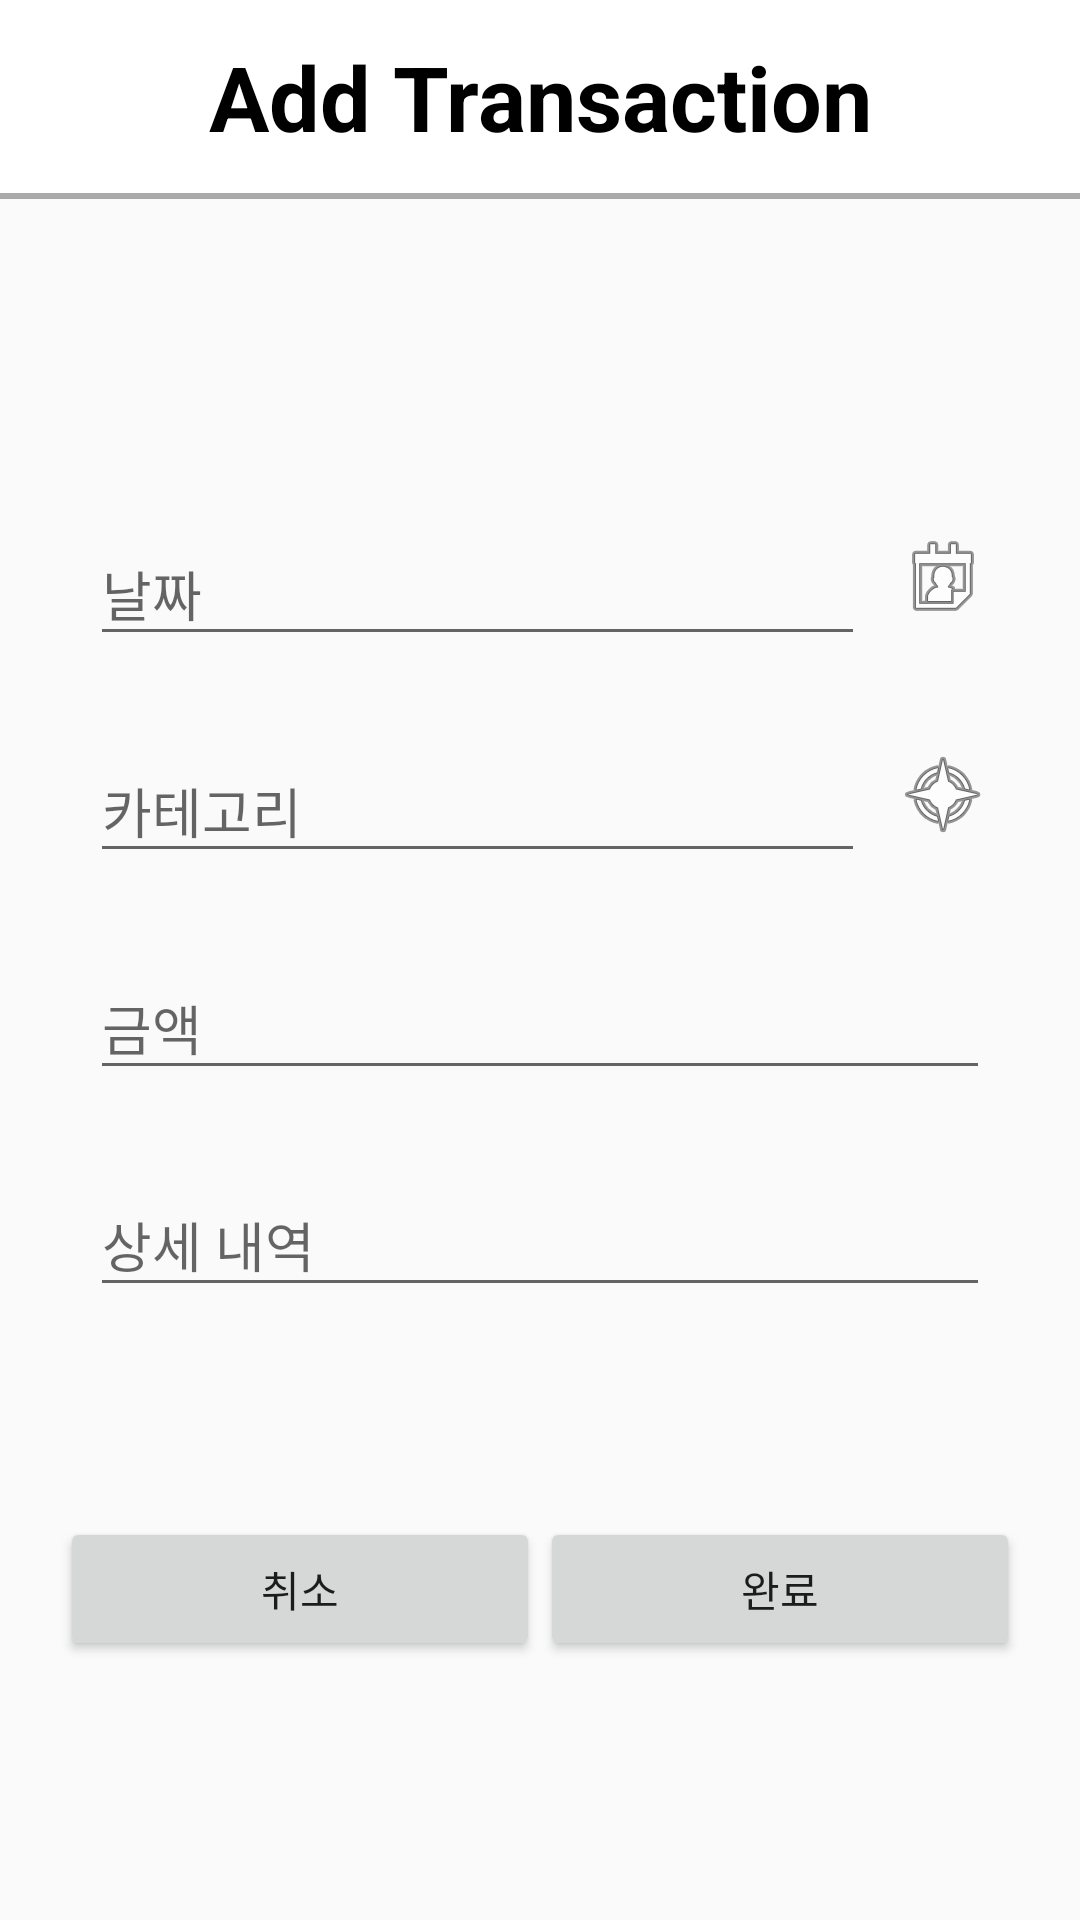

Locate icon controls on the screen. Image size 1080 × 1920, boxes as (x1, y1, x2, y2).
calendar: (912, 541, 974, 611)
compass: (905, 757, 981, 832)
